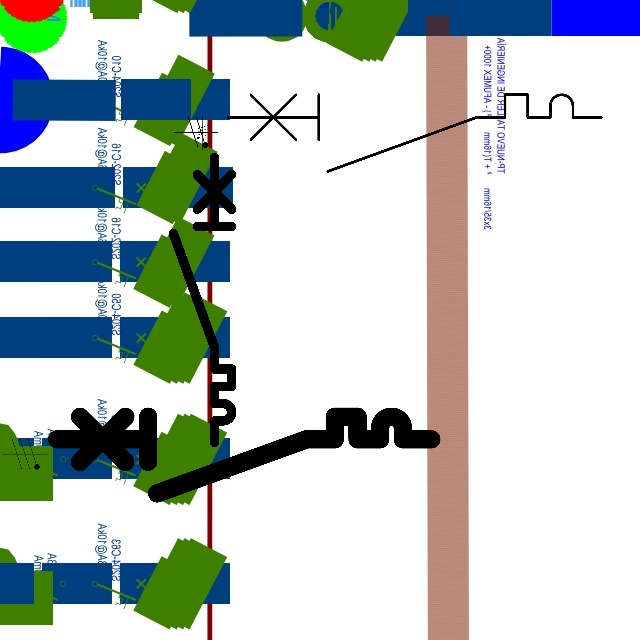interruptor_termomagnetico: (47, 407, 440, 503), (218, 85, 611, 181), (166, 149, 239, 449)
